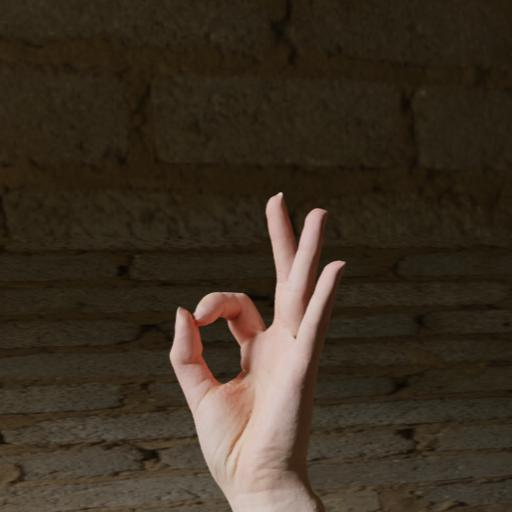F: (163, 184, 352, 490)
